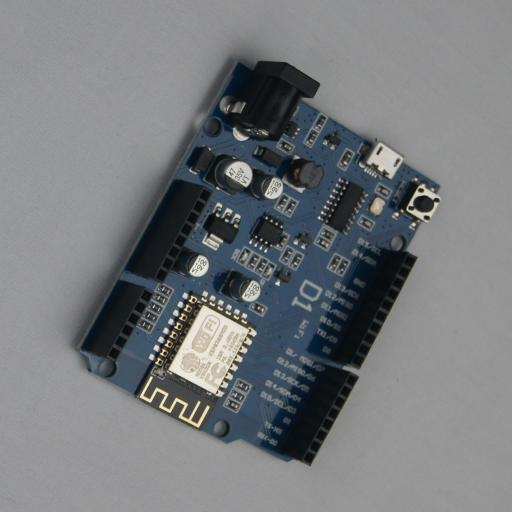Arduino Uno WiFi Shield: (71, 54, 440, 466)
